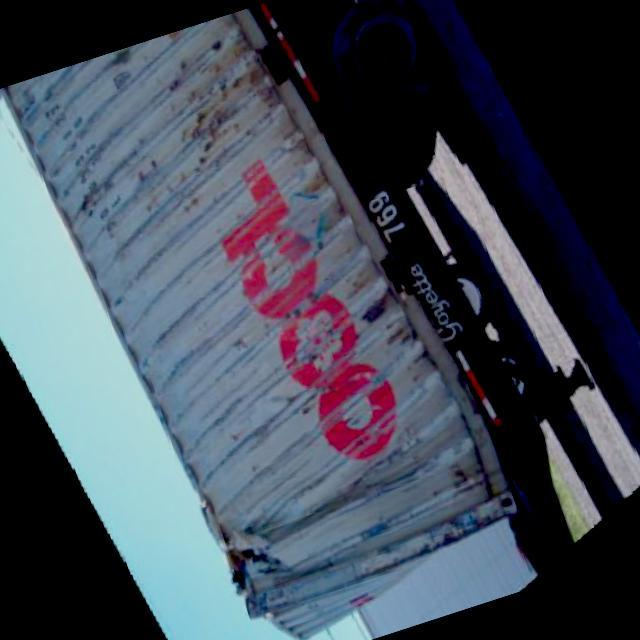hole: (182, 464, 385, 640)
rust: (22, 17, 301, 232), (301, 266, 432, 422)
